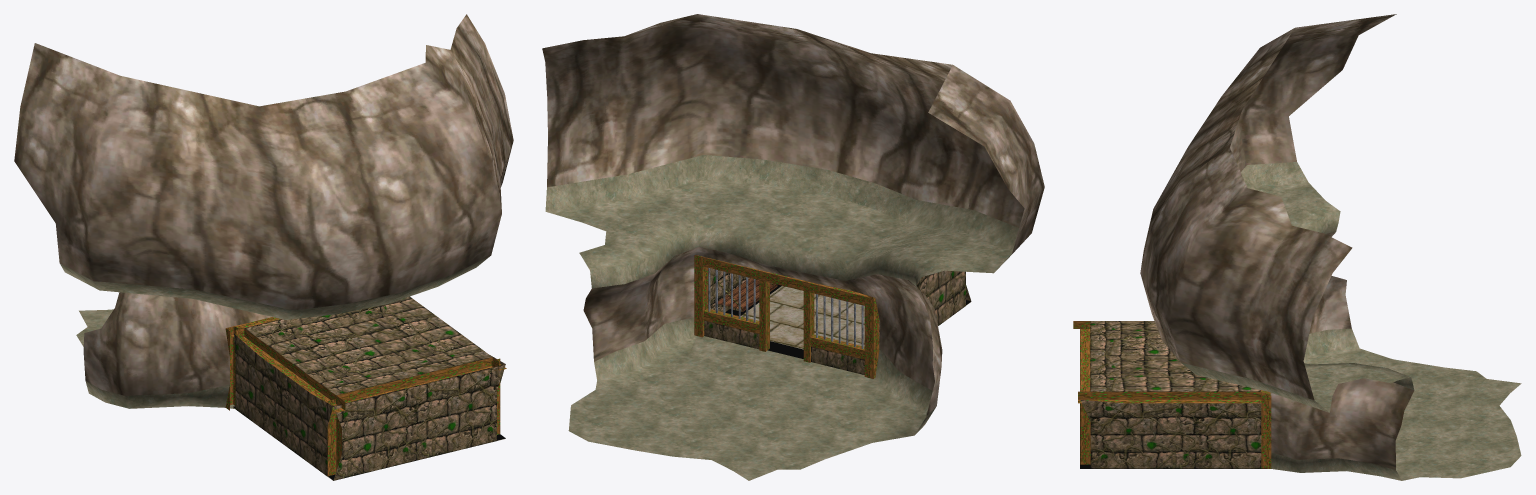
The model's file is CH7_ELVESCAPTUREBILBO_JAILSET.fbx.
The picture shows the model from 3 angles, left to right: view 1: azimuth 30°, elevation 25°; view 2: azimuth 150°, elevation 25°; view 3: azimuth 270°, elevation 25°; orthographic projection. The views are drawn at different scales.
Visible parts, largest first — view 1: CH7_ELVESCAPTUREBILBO_JAILSET; view 2: CH7_ELVESCAPTUREBILBO_JAILSET; view 3: CH7_ELVESCAPTUREBILBO_JAILSET.
Boxes of the visible parts, <box> form: CH7_ELVESCAPTUREBILBO_JAILSET: <box>14,14,513,480</box>; CH7_ELVESCAPTUREBILBO_JAILSET: <box>542,14,1044,480</box>; CH7_ELVESCAPTUREBILBO_JAILSET: <box>1073,14,1521,480</box>.
Bounding box in the file's own units: 138645 × 95346 × 121401.
Materials: 12 (12 with a texture image).
